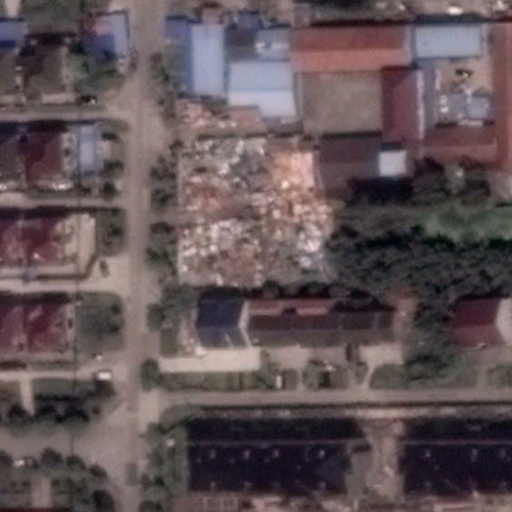msw: (181, 139, 335, 286)
